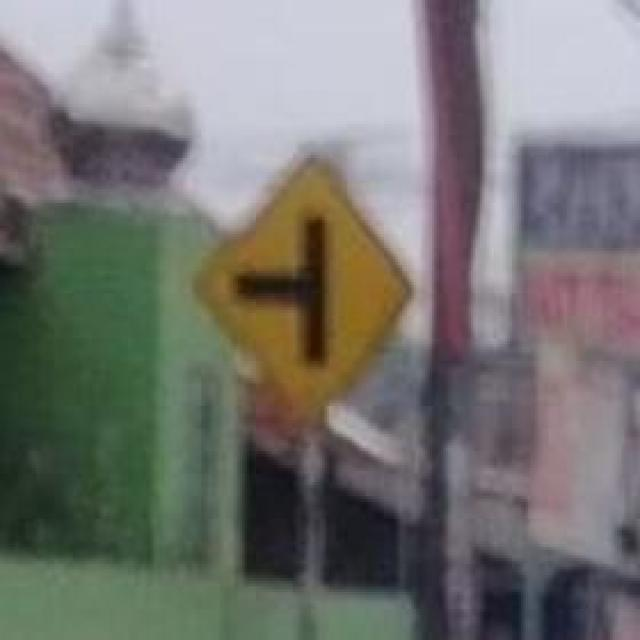traffic sign: (208, 155, 409, 412)
